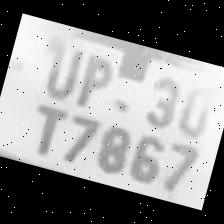0: (172, 74, 219, 139)
3: (136, 65, 186, 132)
6: (121, 124, 170, 188)
7: (52, 104, 104, 170), (154, 134, 204, 198)
8: (88, 116, 138, 179)
P: (66, 44, 122, 114)
T: (18, 95, 70, 159)
U: (34, 33, 87, 103)
